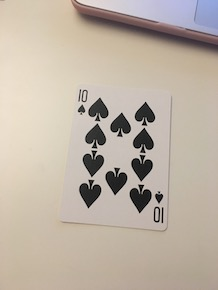TenOfSpades: (57, 80, 177, 235)
